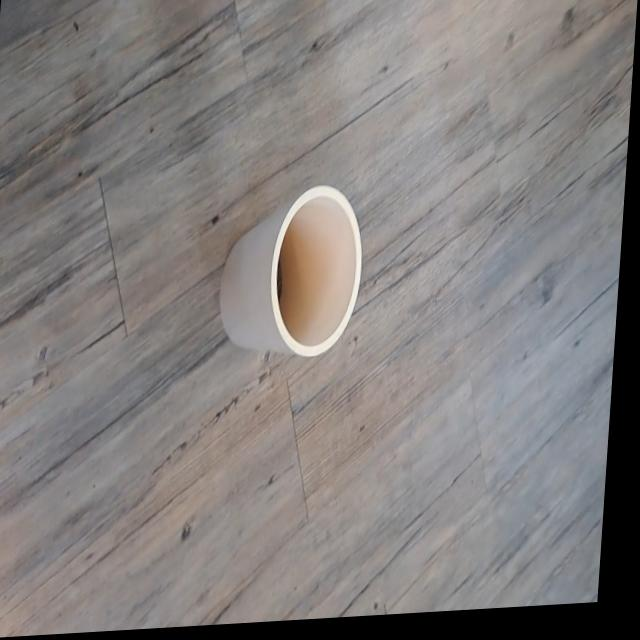CORAL: (205, 156, 390, 395)
